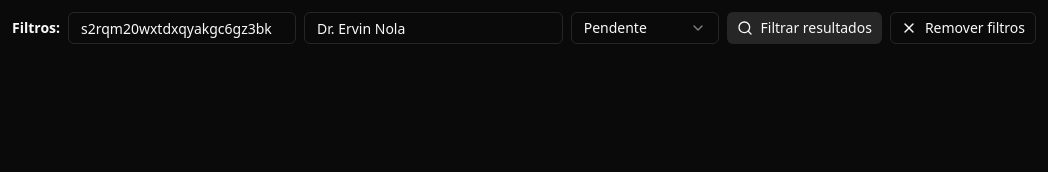
OrderTableFilters › should clear the inputs and url when clicking the button
The width and height of the screenshot is (1048, 172).
Click the button "Remover filtros". click: x=963, y=28
box: [890, 12, 1036, 44]
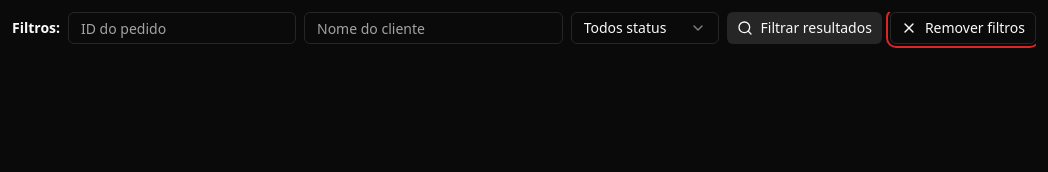
Now the field with placeholder "ID do pedido" is empty, box [68, 12, 296, 44]
Now the field with placeholder "Nome do cliente" is empty, box [304, 12, 563, 44]
Now the dropdown reads "Todos status", box [571, 12, 719, 44]
